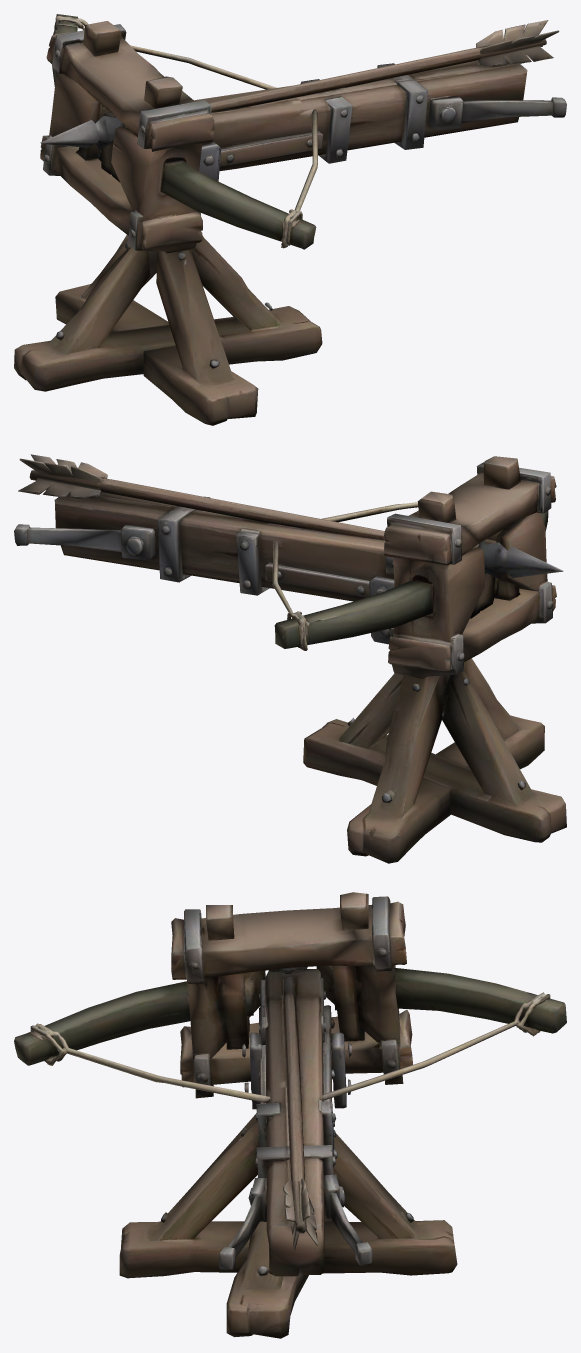
File: ballista.glb
3 renders of one model, top to bottom at view 1: azimuth 30°, elevation 25°; view 2: azimuth 150°, elevation 25°; view 3: azimuth 270°, elevation 25°, orthographic. The views are drawn at different scales.
Parts seen in each view (by area): view 1: tripo_node_b94a0b00-aa3f-4704-bca3-cc76c073abb0; view 2: tripo_node_b94a0b00-aa3f-4704-bca3-cc76c073abb0; view 3: tripo_node_b94a0b00-aa3f-4704-bca3-cc76c073abb0.
Part boxes in pixels (x1,y1,x2,y2): tripo_node_b94a0b00-aa3f-4704-bca3-cc76c073abb0: (14, 14, 566, 425); tripo_node_b94a0b00-aa3f-4704-bca3-cc76c073abb0: (14, 454, 566, 863); tripo_node_b94a0b00-aa3f-4704-bca3-cc76c073abb0: (14, 892, 566, 1338).
Bounding box in the file's own units: 0.998 × 0.5918 × 0.8379.
1 material, 1 textured.
